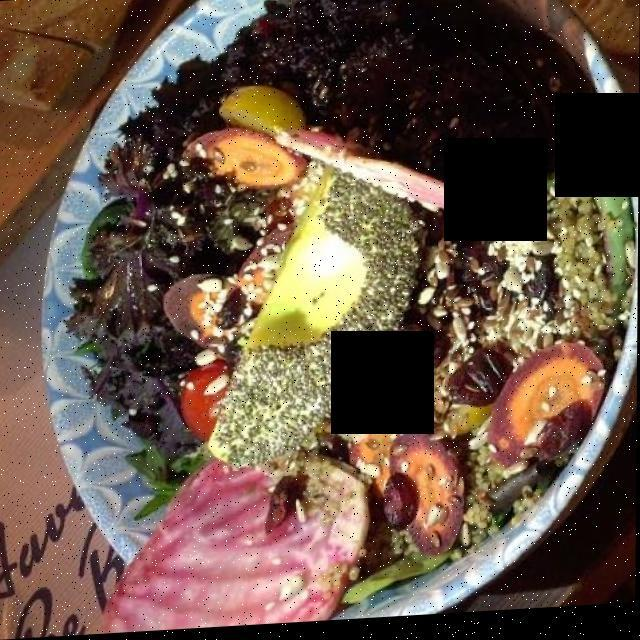avocado: (203, 157, 425, 452)
beetroot: (88, 441, 381, 628)
carrot: (168, 122, 598, 553)
salad: (84, 9, 623, 594)
seeds: (192, 171, 566, 504)
